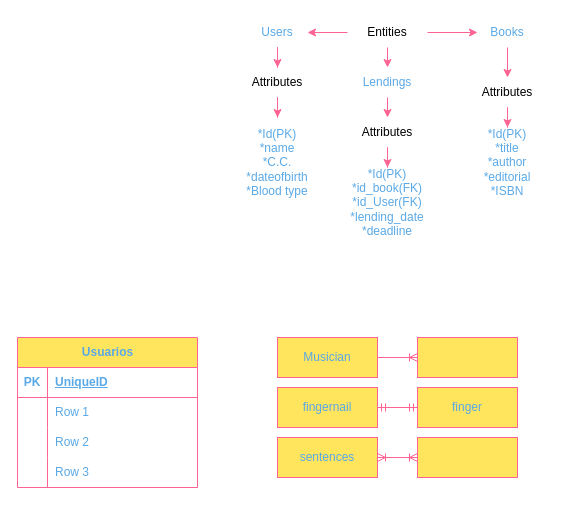
Some shapes in this 570 by 505 pixel diagram are drawn without their labels. Here are the shapes that lost their labels. From the top down, the centre of each, then its label:
point (467, 357): Songs
point (467, 457): words
